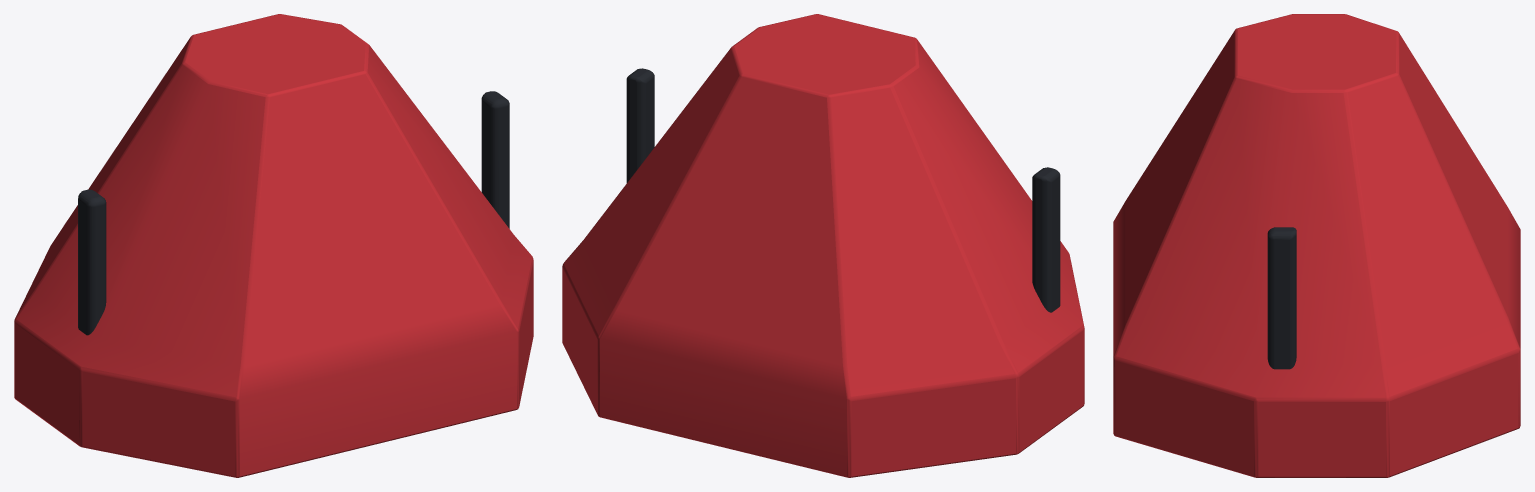
File: AnimalHeadFront_Set03_Overclock.fbx
3 views of the same model, side by side, from view 1: azimuth 30°, elevation 25°; view 2: azimuth 150°, elevation 25°; view 3: azimuth 270°, elevation 25° (orthographic).
Visible parts, largest first — view 1: AnimalHeadFront_Set03_Overclock; view 2: AnimalHeadFront_Set03_Overclock; view 3: AnimalHeadFront_Set03_Overclock.
Part boxes in pixels (x1,y1,x2,y2): AnimalHeadFront_Set03_Overclock: [14, 14, 533, 477]; AnimalHeadFront_Set03_Overclock: [562, 14, 1084, 477]; AnimalHeadFront_Set03_Overclock: [1113, 14, 1520, 477].
Size of the model in its own units: 0.36 by 0.24 by 0.28.
